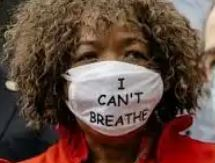with_facemask: (64, 69, 156, 137)
